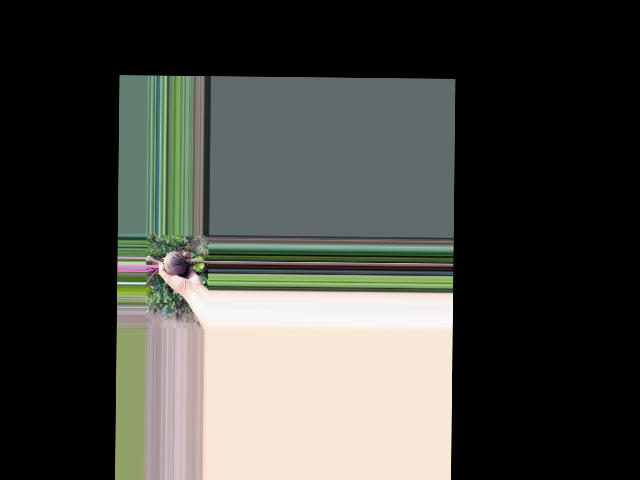beet: (145, 241, 209, 285)
